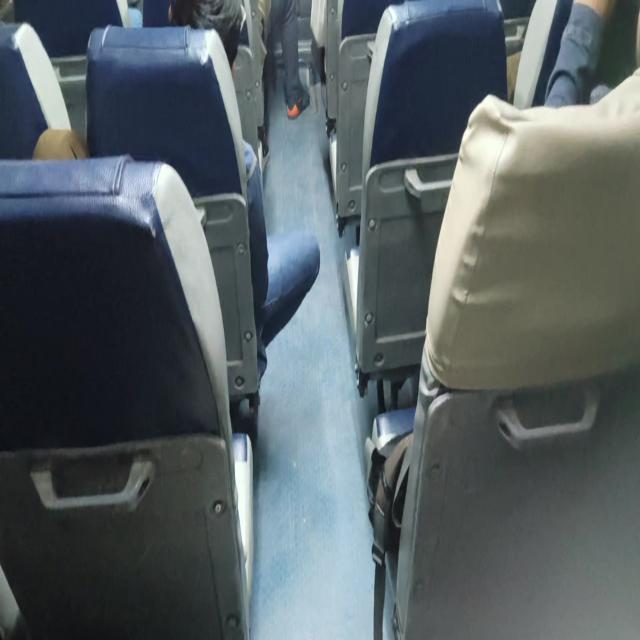person: (379, 1, 639, 637), (168, 1, 320, 382), (543, 0, 639, 108), (258, 0, 310, 162), (168, 0, 245, 73), (32, 126, 89, 160)
